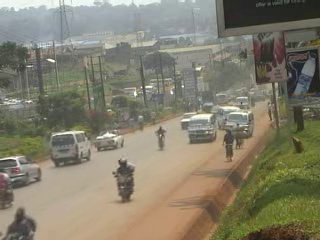Car: (0, 152, 43, 187), (201, 100, 215, 113)
Motorcycle: (109, 168, 134, 204), (0, 227, 35, 239), (0, 181, 15, 209), (155, 132, 166, 150)
